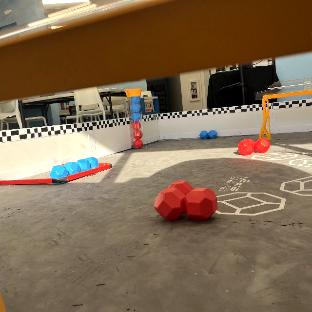Goal: (255, 78, 312, 138)
Parking-R: (0, 162, 111, 185)
V5_BLUE: (76, 158, 98, 171), (51, 166, 68, 177), (199, 130, 216, 139)
V5_RED: (154, 180, 217, 220), (238, 138, 269, 156), (132, 121, 142, 146)
